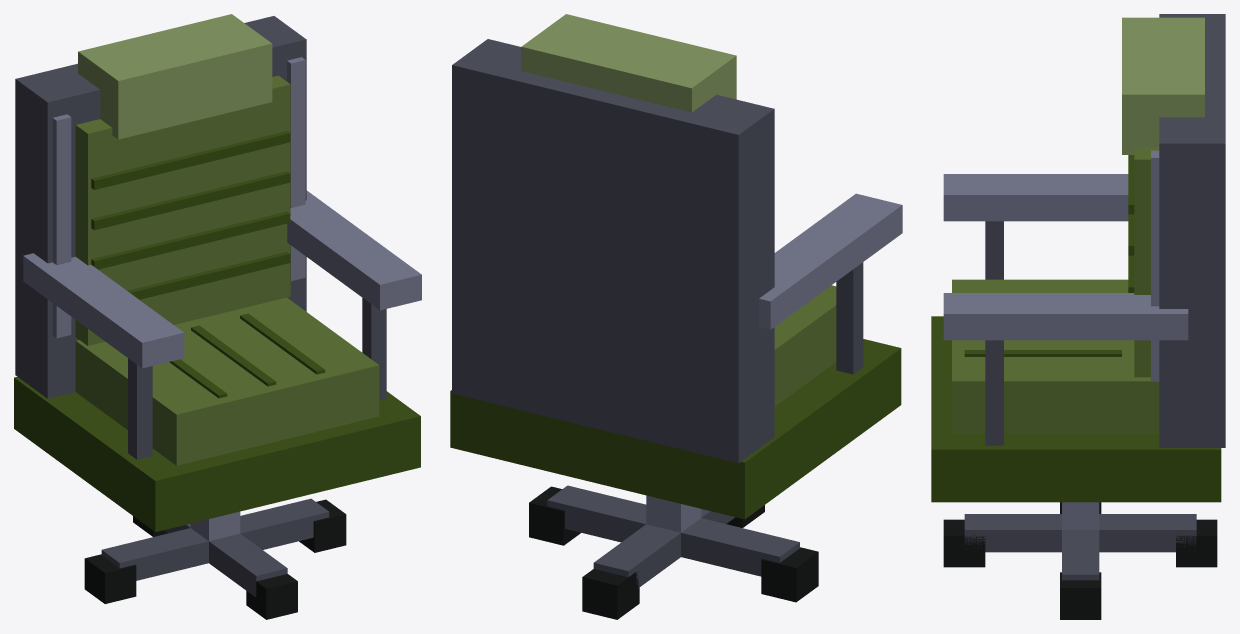
File: CMU3DComfyChairLime.glb
3 views of the same model, side by side, from view 1: azimuth 30°, elevation 25°; view 2: azimuth 150°, elevation 25°; view 3: azimuth 270°, elevation 25° (orthographic). The views are drawn at different scales.
Parts seen in each view (by area): view 1: back cushion, seat cushion, seat base, back shell, headrest, upholstery rib (×4), left arm pad, right arm pad, back edge piping (×2), caster cross X, caster wheel (×3), arm front stanchion (×2) (+3 smaller); view 2: back shell, seat base, headrest, left arm pad, caster cross X, caster wheel (×3), seat cushion, caster cross Y, arm front stanchion, chrome swivel stem; view 3: back shell, seat base, seat cushion, right arm pad, headrest, left arm pad, caster cross Y, caster wheel (×3), back cushion, arm front stanchion (×2), caster cross X, back edge piping (+3 smaller).
Boxes of the visible parts, x1,y1,x2,y2 form: back cushion: (75, 75, 290, 345); seat cushion: (75, 297, 379, 465); seat base: (14, 377, 420, 531); back shell: (15, 16, 306, 398); headrest: (78, 14, 272, 139); upholstery rib (×4): (91, 131, 290, 299); left arm pad: (23, 253, 184, 368); right arm pad: (287, 190, 421, 310); back edge piping (×2): (52, 57, 305, 338); caster cross X: (101, 498, 329, 580); caster wheel (×3): (84, 499, 346, 619); arm front stanchion (×2): (128, 298, 386, 459); back shell: (452, 39, 774, 463); seat base: (450, 339, 901, 519); headrest: (521, 14, 736, 112); left arm pad: (759, 193, 902, 329); caster cross X: (547, 485, 799, 576); caster wheel (×3): (529, 486, 818, 619); seat cushion: (774, 285, 836, 406); caster cross Y: (593, 509, 735, 588); arm front stanchion: (836, 262, 863, 374); chrome swivel stem: (646, 495, 701, 532); back shell: (1159, 14, 1225, 447); seat base: (931, 316, 1221, 502); seat cushion: (952, 279, 1159, 433); right arm pad: (943, 293, 1188, 340); headrest: (1122, 17, 1204, 154); left arm pad: (943, 174, 1128, 221); caster cross Y: (964, 514, 1196, 552); caster wheel (×3): (943, 519, 1217, 619); back cushion: (1134, 147, 1159, 377); arm front stanchion (×2): (985, 221, 1003, 445); caster cross X: (1062, 530, 1099, 580); back edge piping: (1151, 150, 1159, 381).
Bounding box in the file's own units: 0.8 × 1.34 × 0.71.
